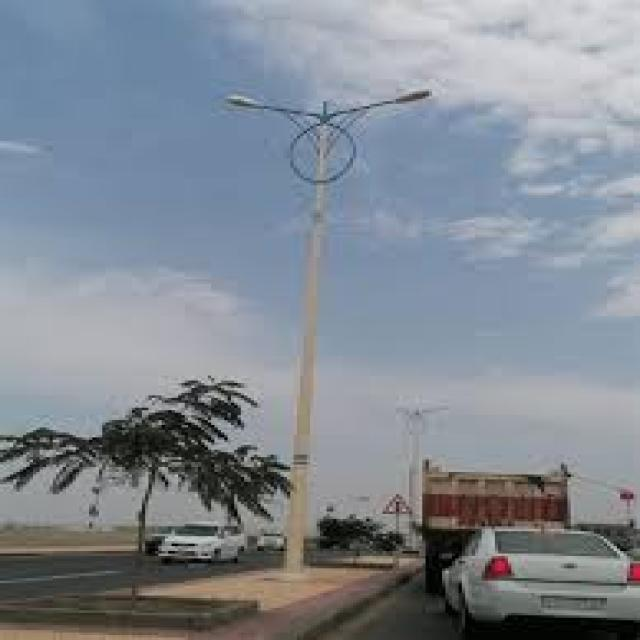Street Light: (221, 84, 426, 571)
